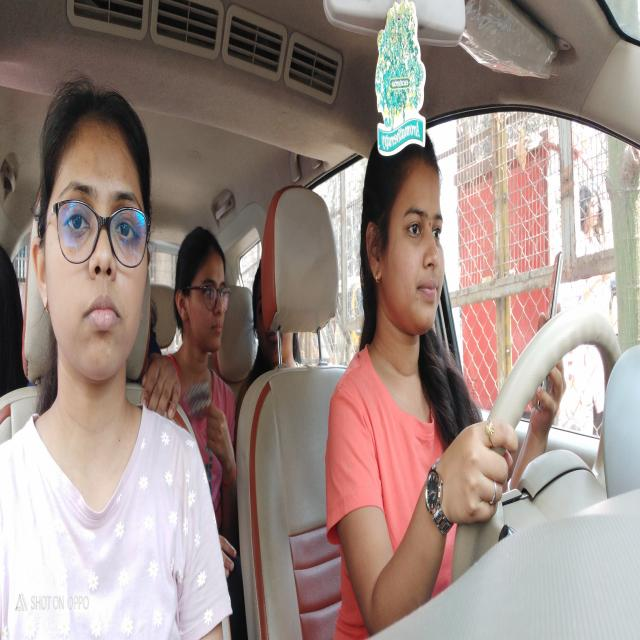mobile: (526, 237, 577, 413)
person: (28, 78, 164, 401), (366, 122, 457, 369), (169, 209, 234, 381), (246, 259, 307, 375)
